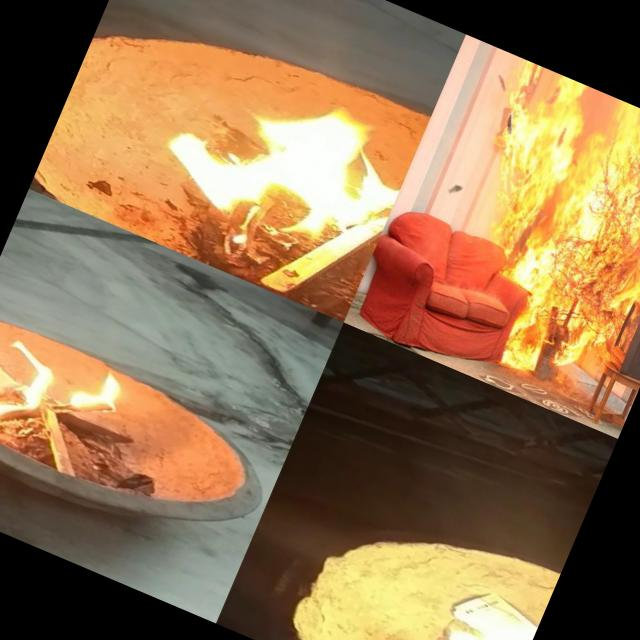fire: (407, 59, 640, 425), (125, 32, 424, 284), (0, 306, 156, 499), (367, 560, 543, 640)
